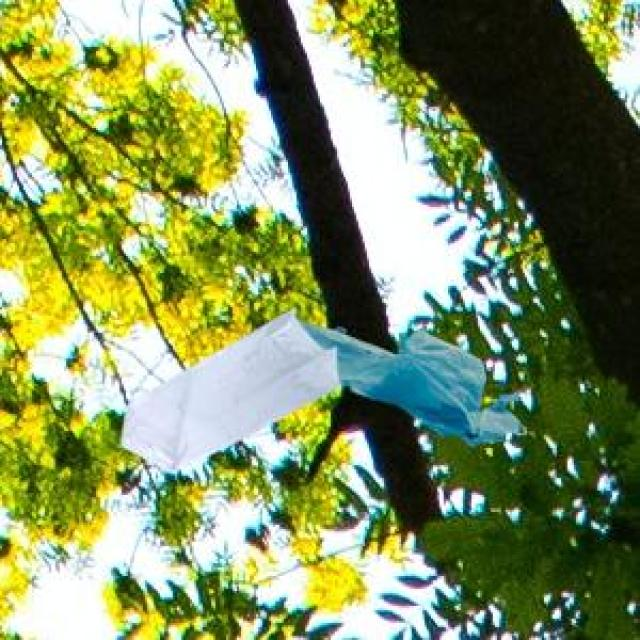plastic: (107, 275, 532, 496)
